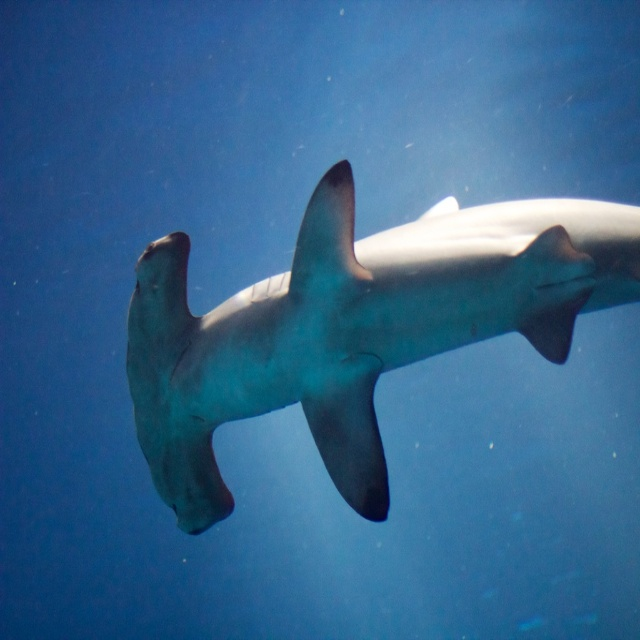Fish: (126, 157, 640, 536)
